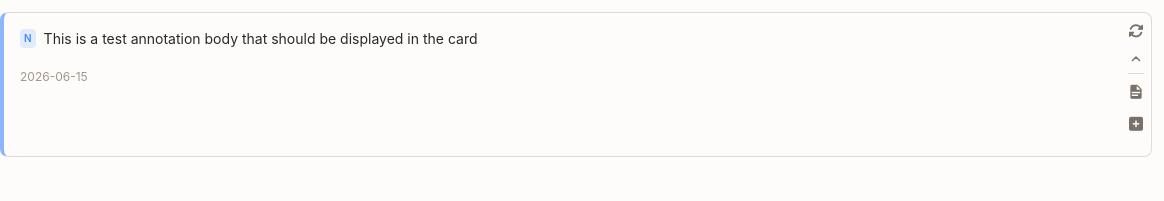
Test case: CardboxCard › clicking Add note reveals the textarea below the row
What coordinates should you click on to do the following:
click the button with test id "card-note-add"
I would click on:
 (1136, 124)
Its box is [1123, 108, 1149, 140].
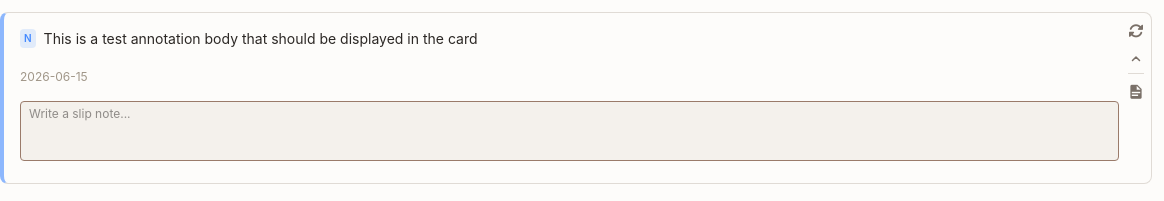
Now the text box with test id "card-note-textarea" is shown, box [20, 101, 1119, 161]
Now the button with test id "card-note-add" is gone
